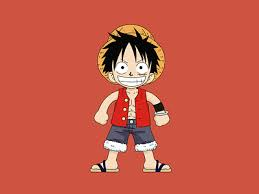luffy: (95, 24, 166, 90)
